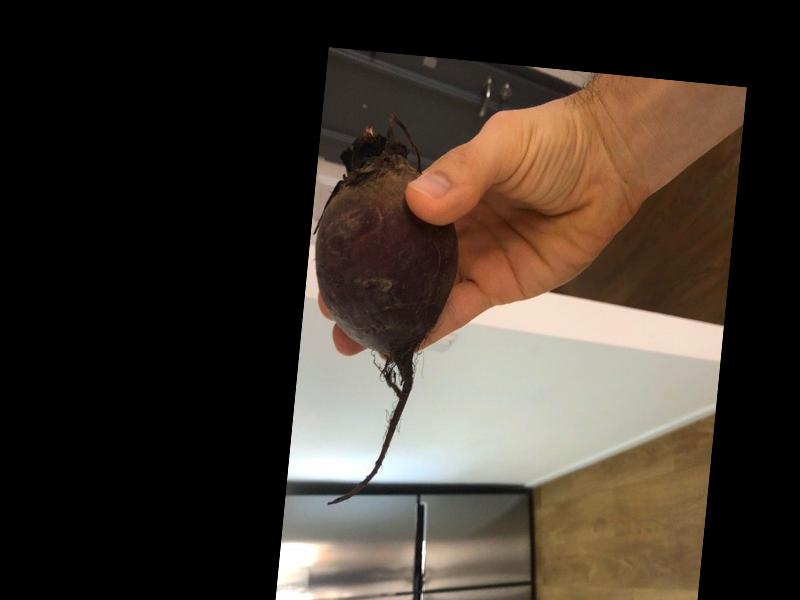Beet: (288, 109, 468, 513)
